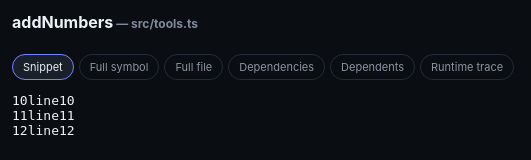
Test case: CodeViewer — all six sub-views › Dependents lists incoming symbols
Click the tab with test id "code-viewer-mode-dependents" at (373, 66), box [330,54,415,80]
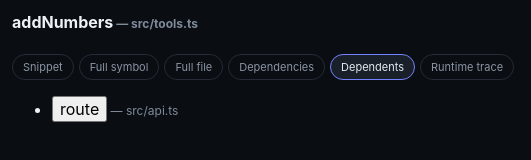
Check: the button with test id "code-viewer-dependent-src/api.ts#route" is shown, box [52,96,107,122]
